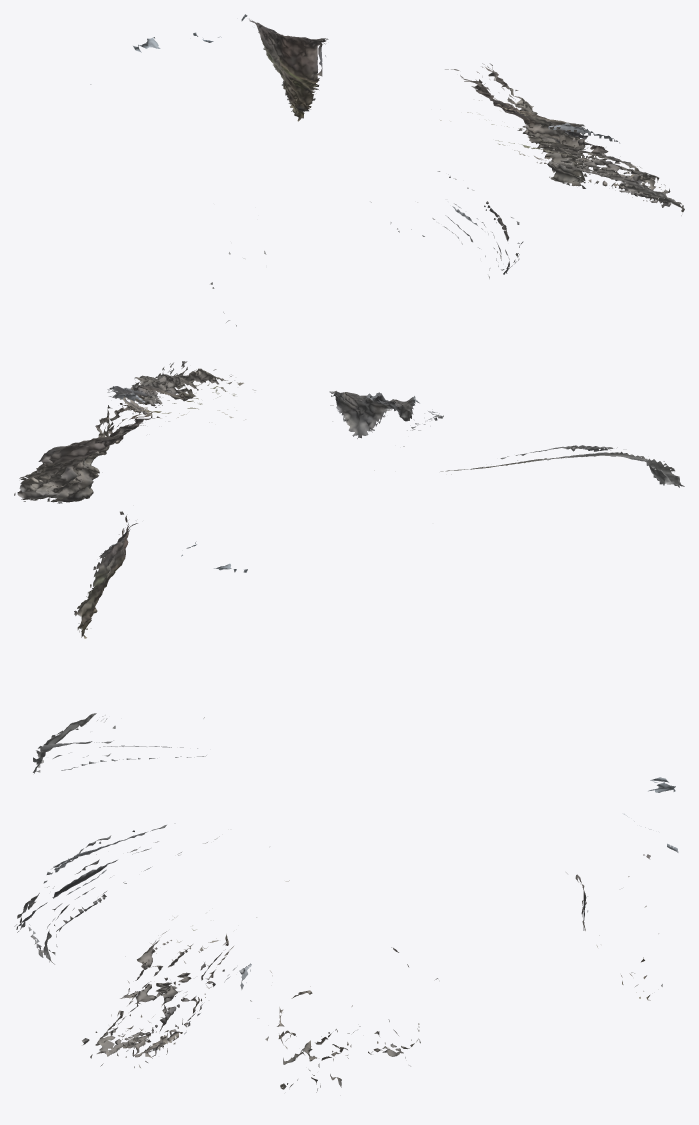
The model's file is world-1770313398840.glb.
3 renders of one model, top to bottom at view 1: azimuth 30°, elevation 25°; view 2: azimuth 150°, elevation 25°; view 3: azimuth 270°, elevation 25°, orthographic. The views are drawn at different scales.
Visible parts, largest first — view 1: world; view 2: world; view 3: world.
Boxes of the visible parts, <box> form: world: <box>90,14,684,326</box>; world: <box>14,361,684,638</box>; world: <box>14,713,678,1092</box>.
Size of the model in its own units: 115 by 26.95 by 108.
